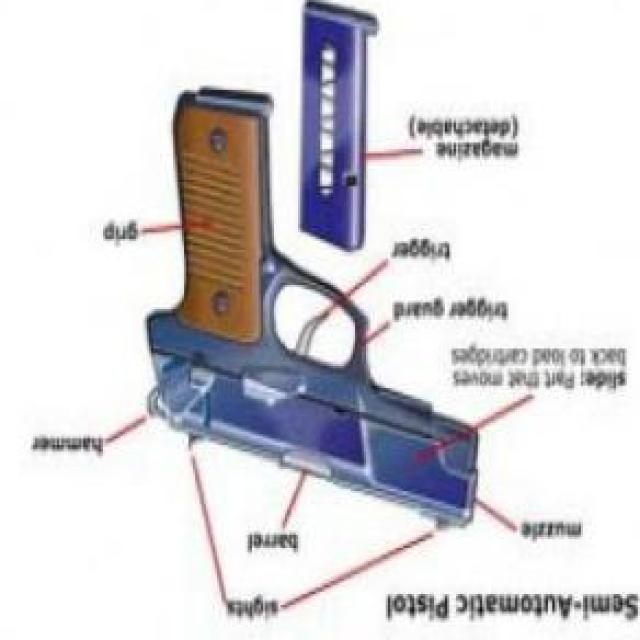pistol: (144, 77, 491, 535)
